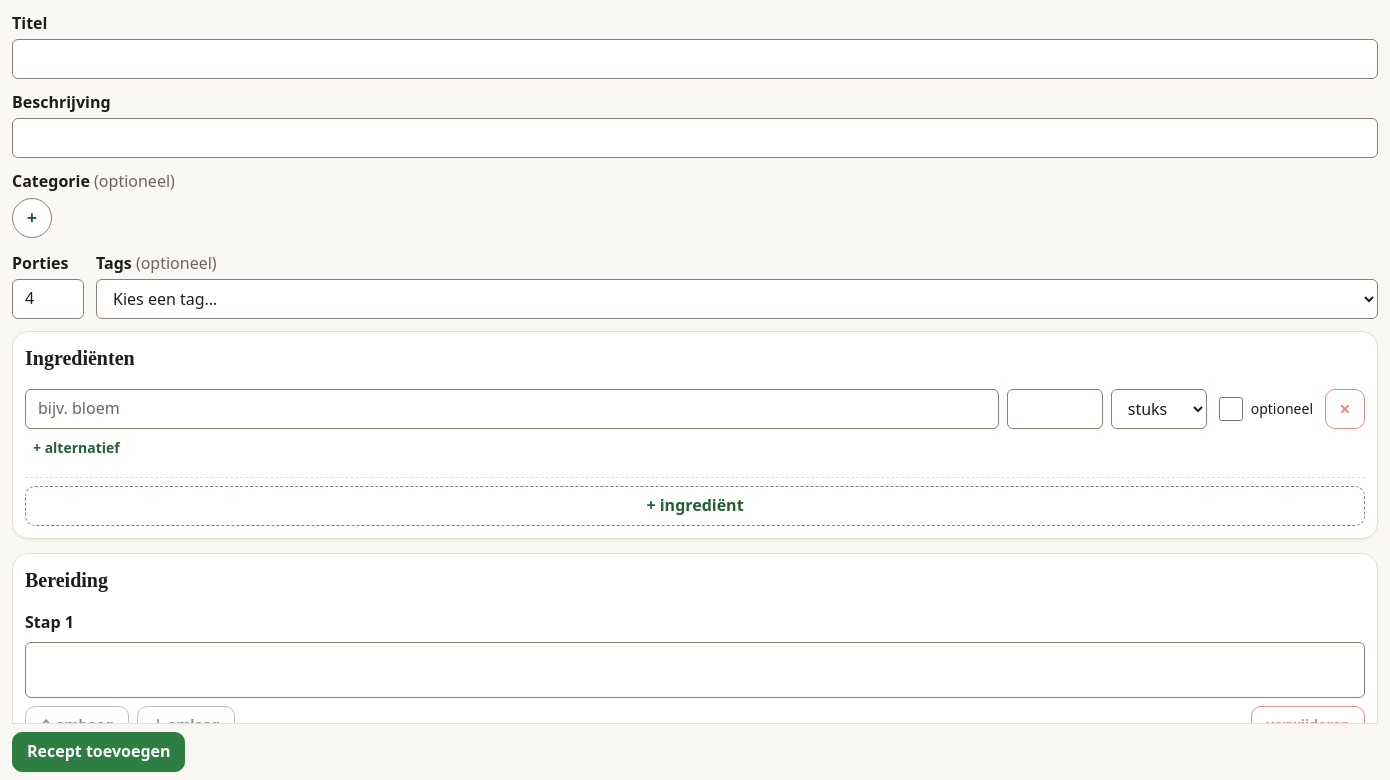
it: RecipeForm: alternatieven › toont onder de naam van een alternatief dezelfde suggestie als bij een ingrediënt
The width and height of the screenshot is (1390, 780).
Click the button with class "add-alternative".
click(76, 449)  # box [25,429,128,469]
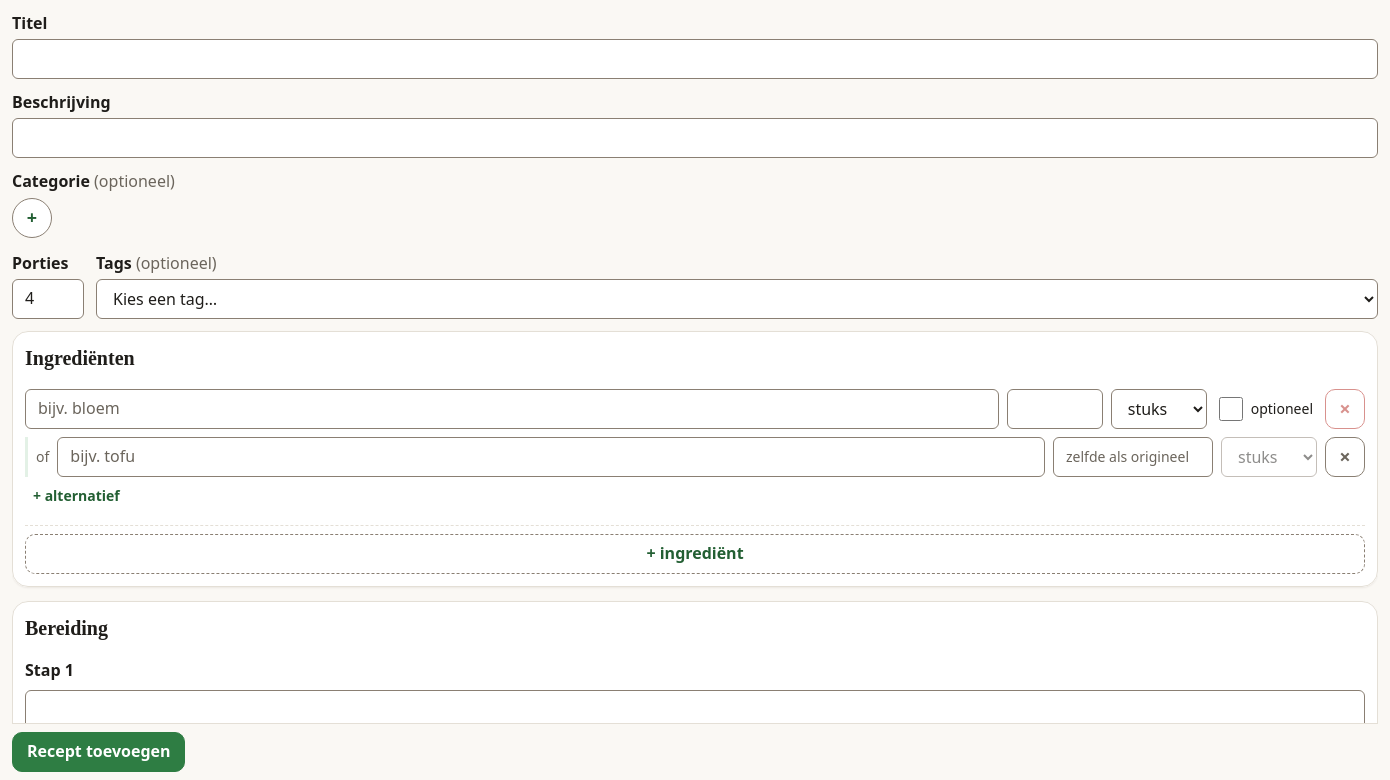
Type "zoete aardappelen" into the field with class "alt-name".
click(551, 457); type("zoete aardappelen")  # box [57,437,1045,477]
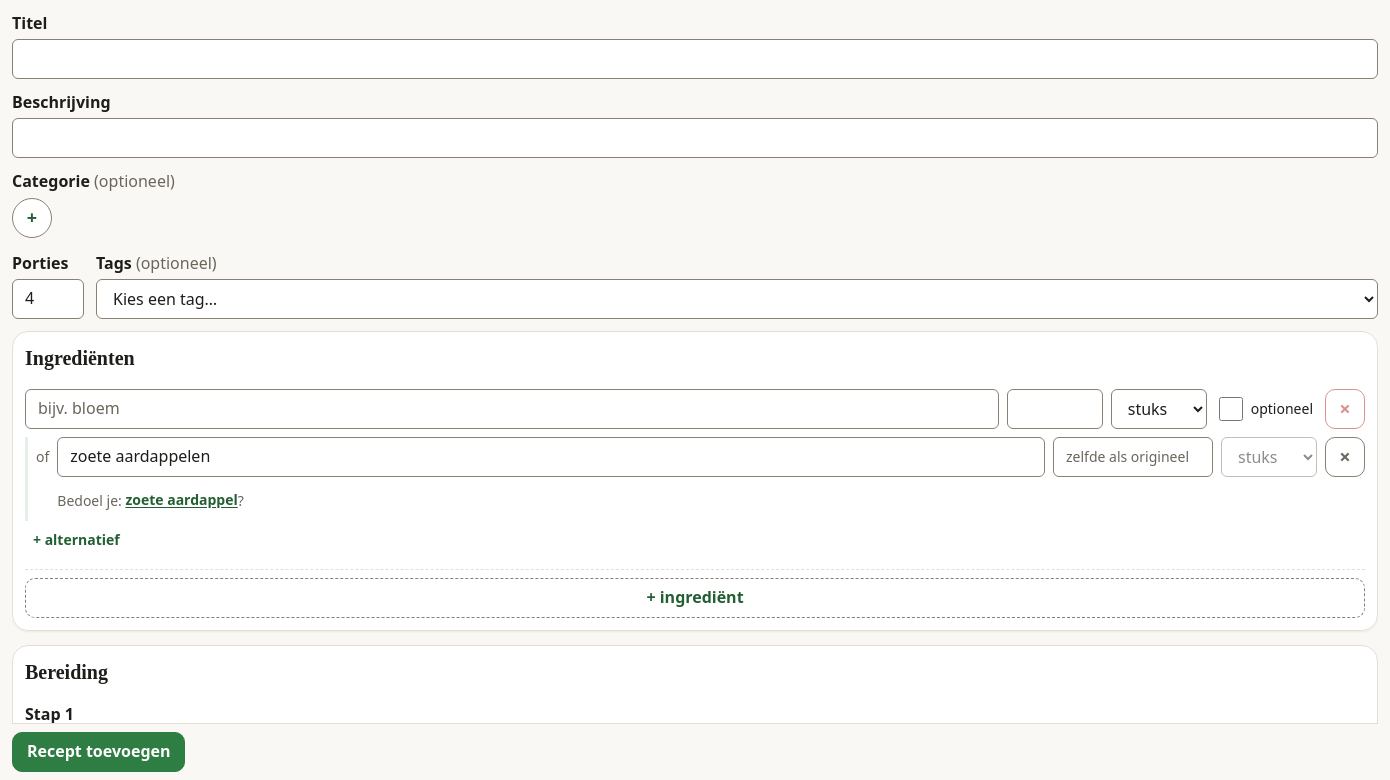
Check: the element with class "ingredient-suggestion" reads "Bedoel je: zoete aardappel ?", box [57,481,244,521]
Click the button "zoete aardappel".
click(182, 501)  # box [125,481,238,521]
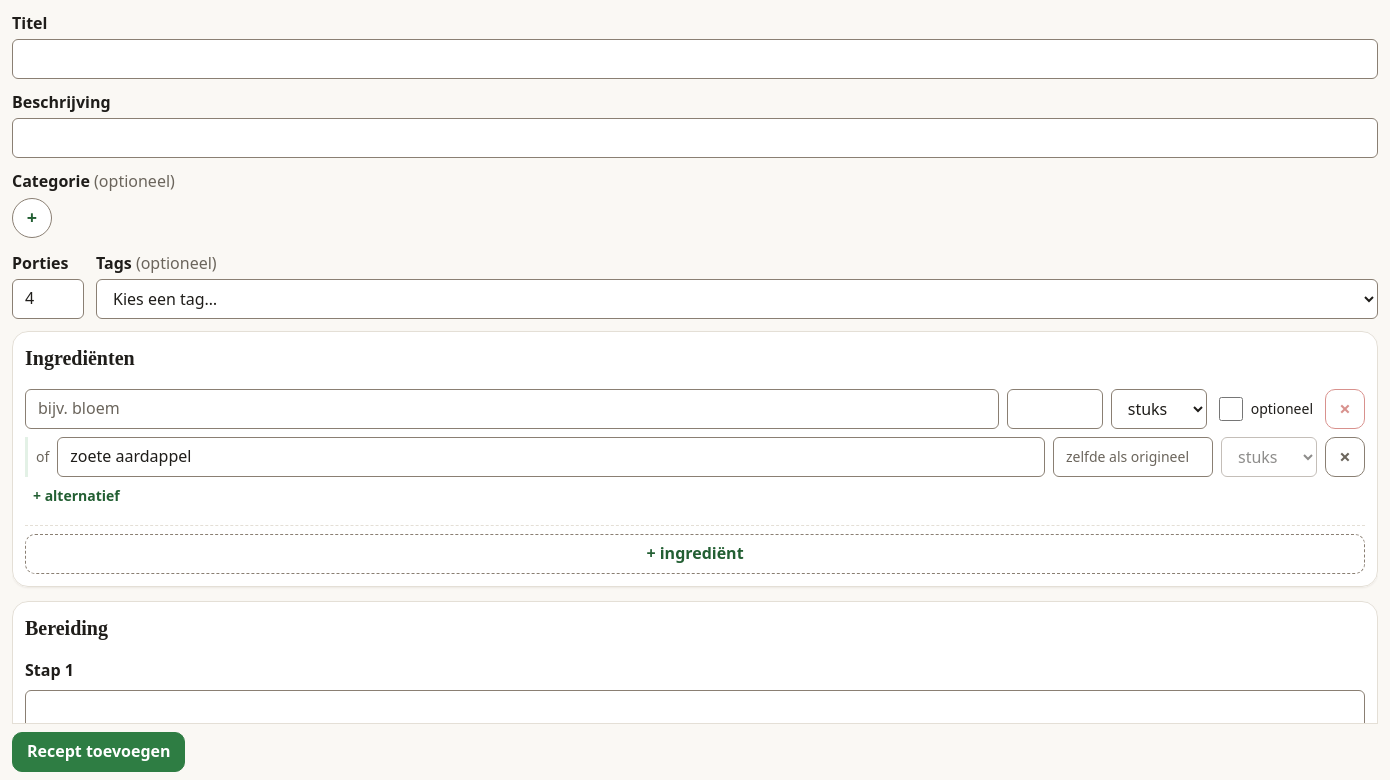
Check: the field with class "alt-name" holds "zoete aardappel", box [57,437,1045,477]
